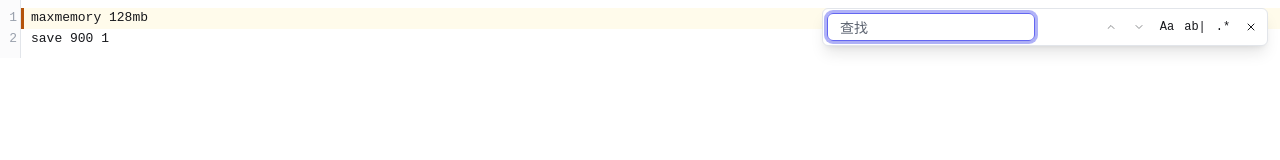
Test: 编辑器内容变化时不重设查找选区
Type "maxmemory" into the search field named "在你的配置中查找" at (931, 27), box left=827, top=13, right=1035, bottom=41
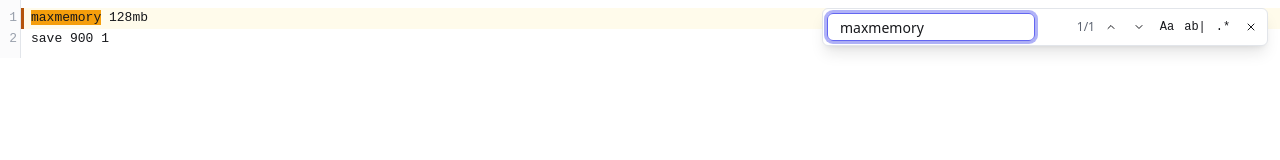
Expected: the number of text boxes with class "cm-find-match" is 1, left=31, top=10, right=101, bottom=25
